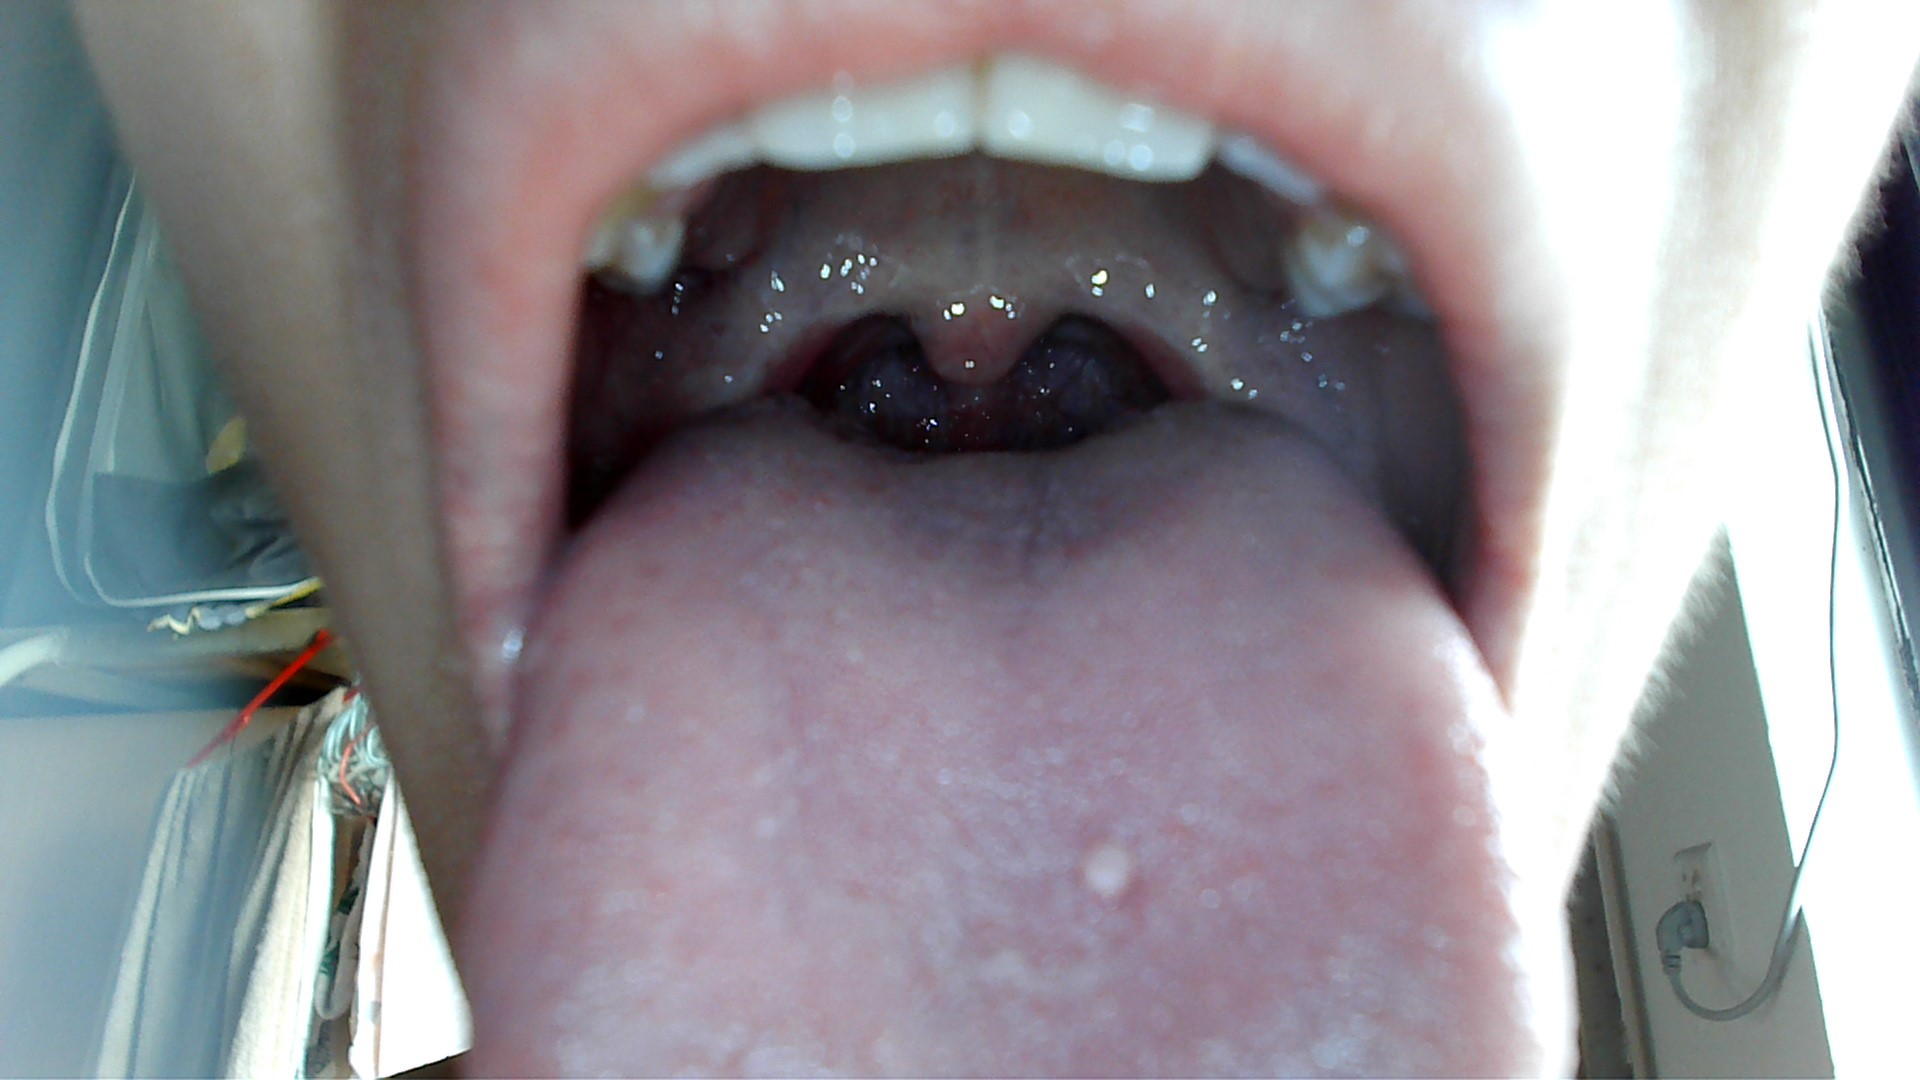throat: (658, 295, 829, 396), (1122, 240, 1222, 400)
